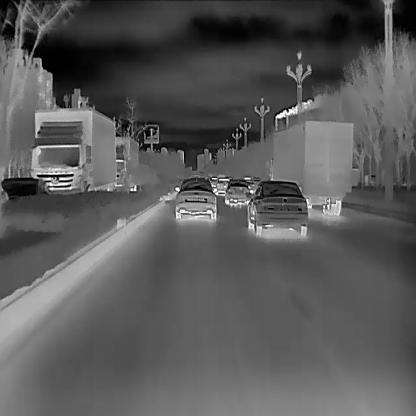car: (271, 121, 353, 215), (31, 109, 115, 196), (246, 180, 309, 234), (173, 175, 216, 220), (109, 135, 135, 192), (224, 178, 249, 205)
